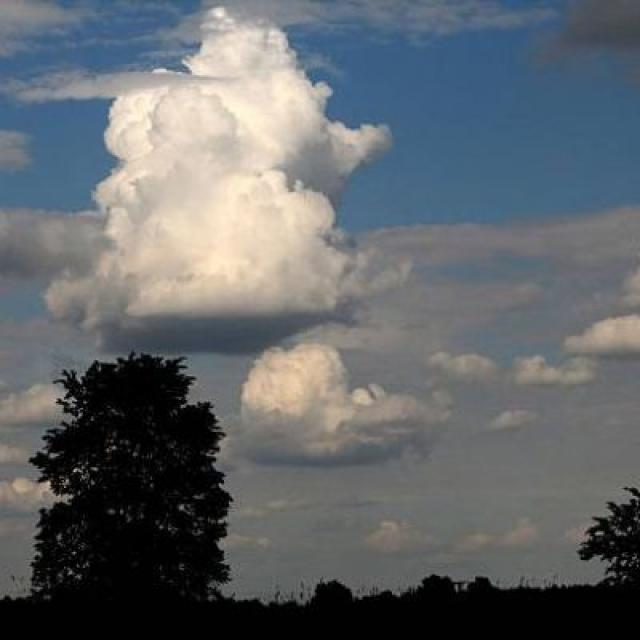Cs: (74, 9, 417, 364)
